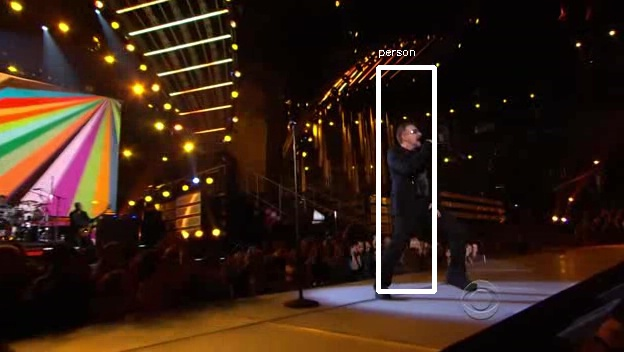person: (383, 127, 448, 244), (380, 127, 445, 244), (386, 127, 451, 244), (383, 124, 448, 241), (383, 130, 448, 247)
target_negative: (382, 38, 482, 184), (119, 253, 463, 278), (353, 273, 455, 321), (315, 78, 382, 142), (505, 293, 539, 352), (31, 315, 37, 342)
